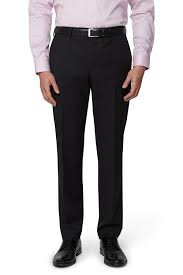F_belt: (51, 22, 132, 41)
F_dress pants: (48, 37, 131, 243)
